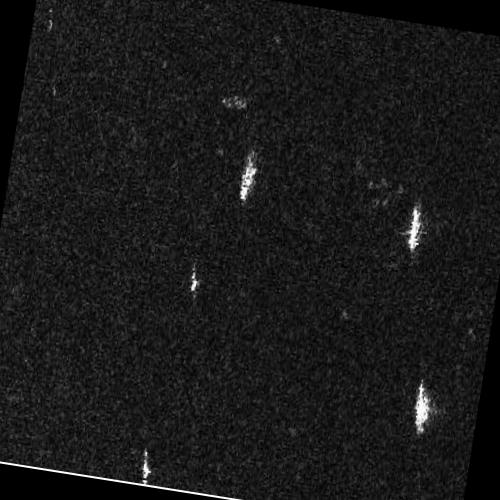ship: (413, 383, 430, 435), (238, 161, 257, 204), (407, 208, 421, 253), (141, 458, 150, 479), (189, 276, 198, 293)
